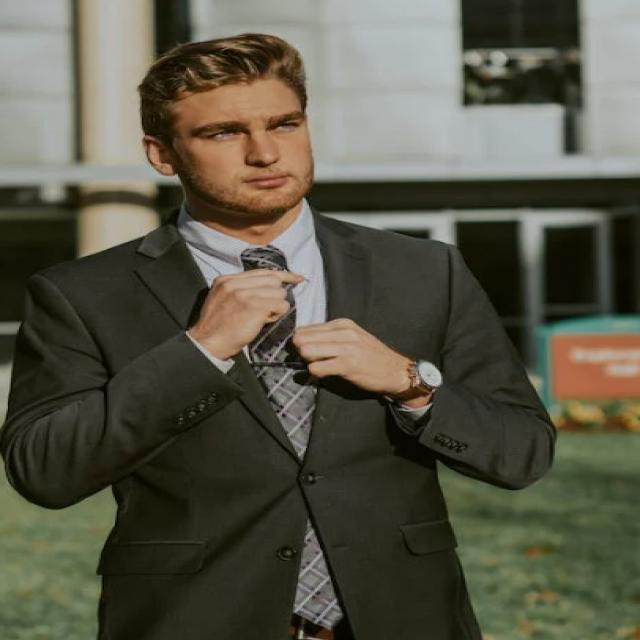Watch: (382, 354, 452, 414)
